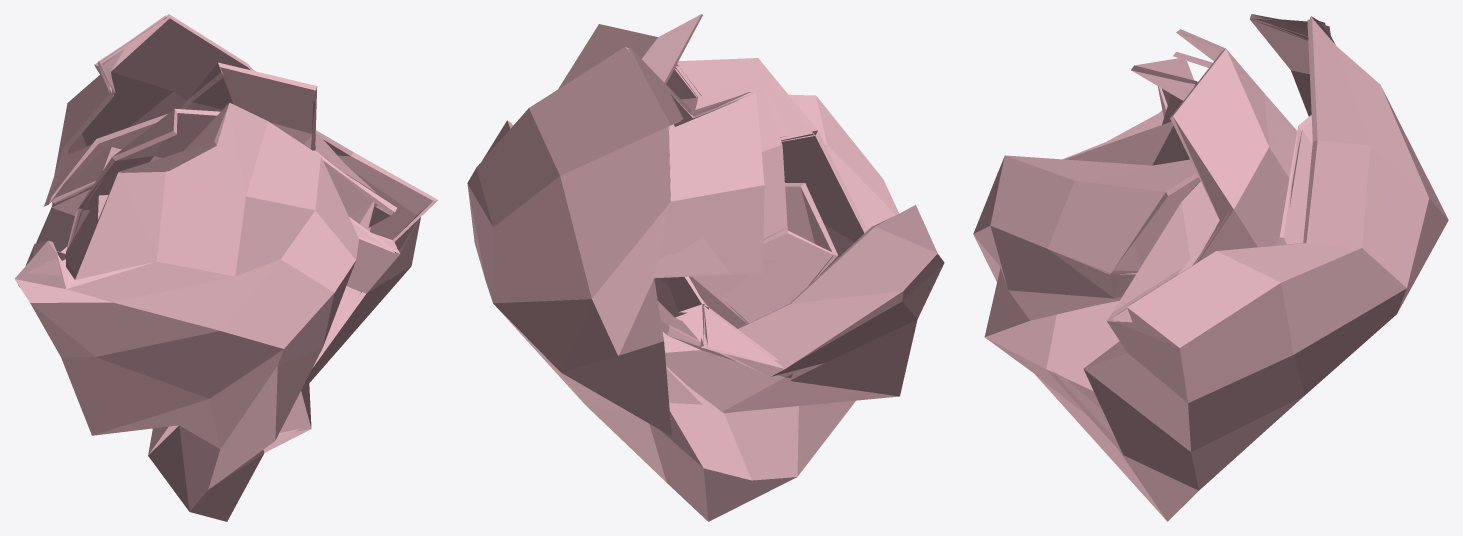
File: Crumble_Paper.fbx
3 renders of one model, left to right at view 1: azimuth 30°, elevation 25°; view 2: azimuth 150°, elevation 25°; view 3: azimuth 270°, elevation 25°, orthographic. The views are drawn at different scales.
Visible parts, largest first — view 1: Crumble Paper; view 2: Crumble Paper; view 3: Crumble Paper.
Part boxes in pixels (x1,y1,x2,y2): Crumble Paper: (14,14,437,521); Crumble Paper: (467,14,944,521); Crumble Paper: (973,14,1448,521).
Bounding box in the file's own units: 28.92 × 31.24 × 26.52.
